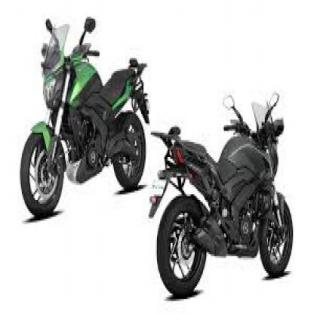Motocicleta: (147, 91, 298, 300), (17, 9, 151, 220)
